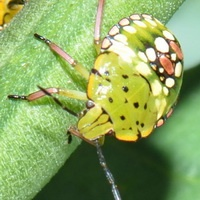insect: (0, 0, 97, 199), (102, 0, 182, 36)
